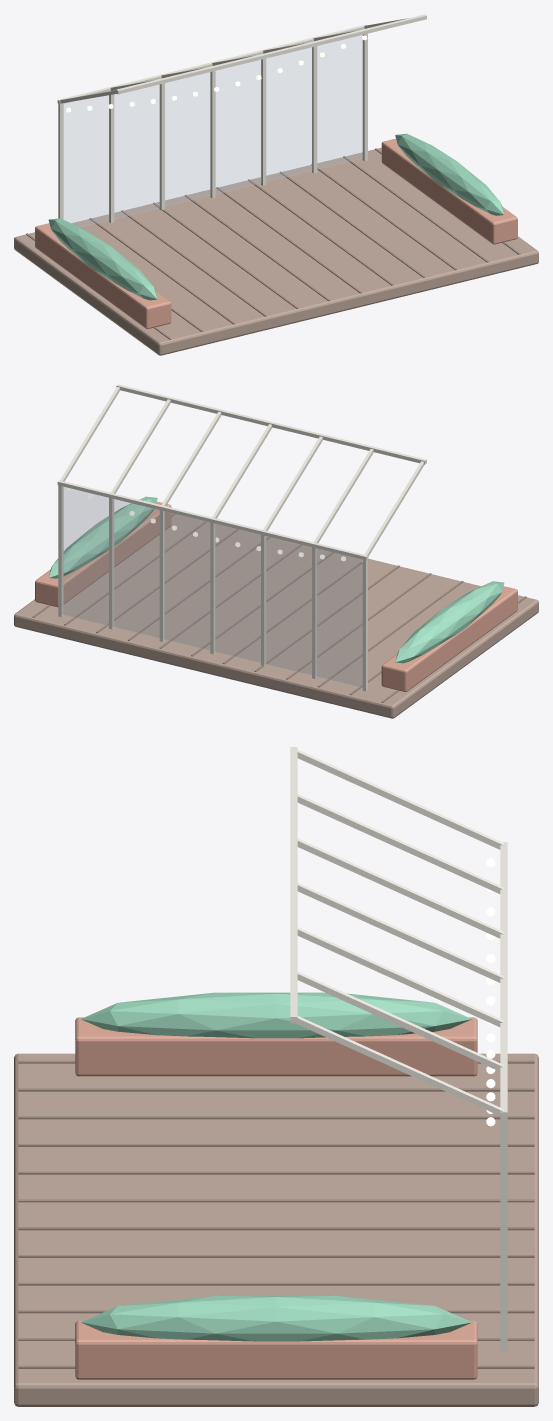
Rendered from greenhouse.glb.
3 views of the same model, one above another, from view 1: azimuth 30°, elevation 25°; view 2: azimuth 150°, elevation 25°; view 3: azimuth 270°, elevation 25° (orthographic). The views are drawn at different scales.
Visible parts, largest first — view 1: Deck, Glass, Frame, Planks, Planter.001, Planter, Hedge, Hedge.001; view 2: Deck, Glass, Frame, Planks, Planter, Planter.001, Hedge, Hedge.001; view 3: Deck, Frame, Planter.001, Planks, Planter, Hedge.001, Hedge, Bulbs.
Part boxes in pixels (<box>): Deck: <box>14,147,538,355</box>; Glass: <box>64,35,362,226</box>; Frame: <box>57,14,426,222</box>; Planks: <box>26,148,520,339</box>; Planter.001: <box>381,138,517,244</box>; Planter: <box>35,223,171,329</box>; Hedge: <box>48,218,157,300</box>; Hedge.001: <box>395,133,504,215</box>; Deck: <box>14,513,538,718</box>; Glass: <box>62,487,362,687</box>; Frame: <box>57,384,426,691</box>; Planks: <box>32,513,526,702</box>; Planter: <box>381,586,517,691</box>; Planter.001: <box>35,501,171,607</box>; Hedge: <box>395,581,504,663</box>; Hedge.001: <box>48,496,157,578</box>; Deck: <box>14,1053,538,1406</box>; Frame: <box>290,747,507,1352</box>; Planter.001: <box>75,1320,477,1379</box>; Planks: <box>18,1060,534,1368</box>; Planter: <box>75,1017,477,1076</box>; Hedge.001: <box>81,1295,471,1341</box>; Hedge: <box>81,992,471,1038</box>; Bulbs: <box>486,858,495,1126</box>.
Size of the model in its own units: 9 by 4.54 by 6.
